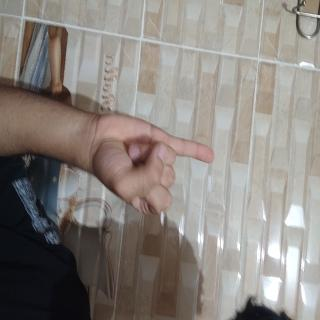MEEM: (79, 136, 164, 316)
